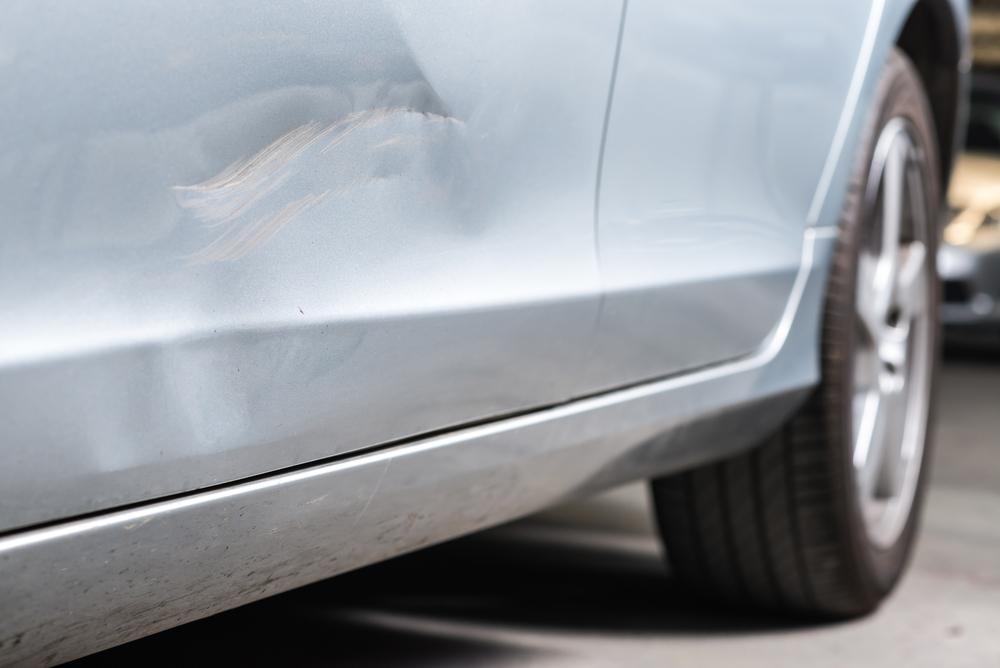dent: (79, 27, 593, 469)
